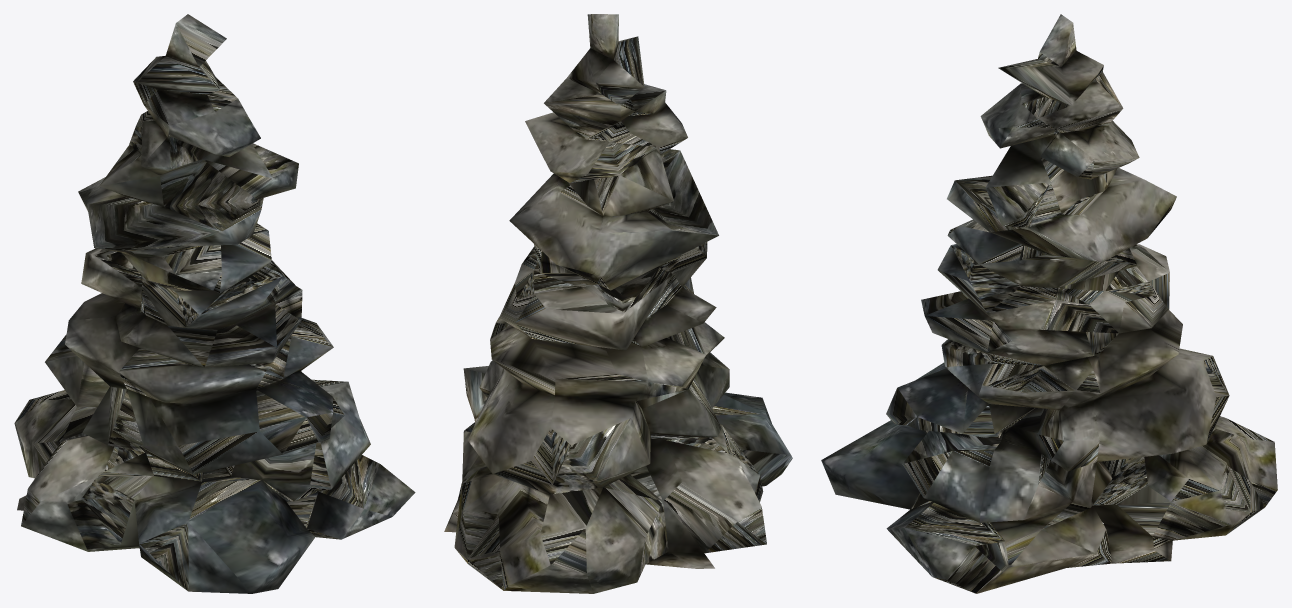
The model's file is cairn_lod2.glb.
3 renders of one model, left to right at view 1: azimuth 30°, elevation 25°; view 2: azimuth 150°, elevation 25°; view 3: azimuth 270°, elevation 25°, orthographic. The views are drawn at different scales.
Parts seen in each view (by area): view 1: cairn_lod2; view 2: cairn_lod2; view 3: cairn_lod2.
Part boxes in pixels (x1=…): cairn_lod2: x1=14, y1=14, x2=415, y2=593; cairn_lod2: x1=444, y1=14, x2=792, y2=593; cairn_lod2: x1=821, y1=14, x2=1277, y2=593.
Size of the model in its own units: 4.26 by 6 by 5.04.
Materials: 1 (1 with a texture image).
